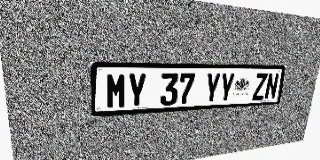3: (160, 73, 179, 106)
7: (177, 73, 195, 105)
M: (106, 73, 127, 109)
N: (264, 73, 279, 100)
Y: (127, 73, 147, 108), (203, 73, 221, 103), (218, 73, 235, 102)
Z: (252, 73, 268, 100)
